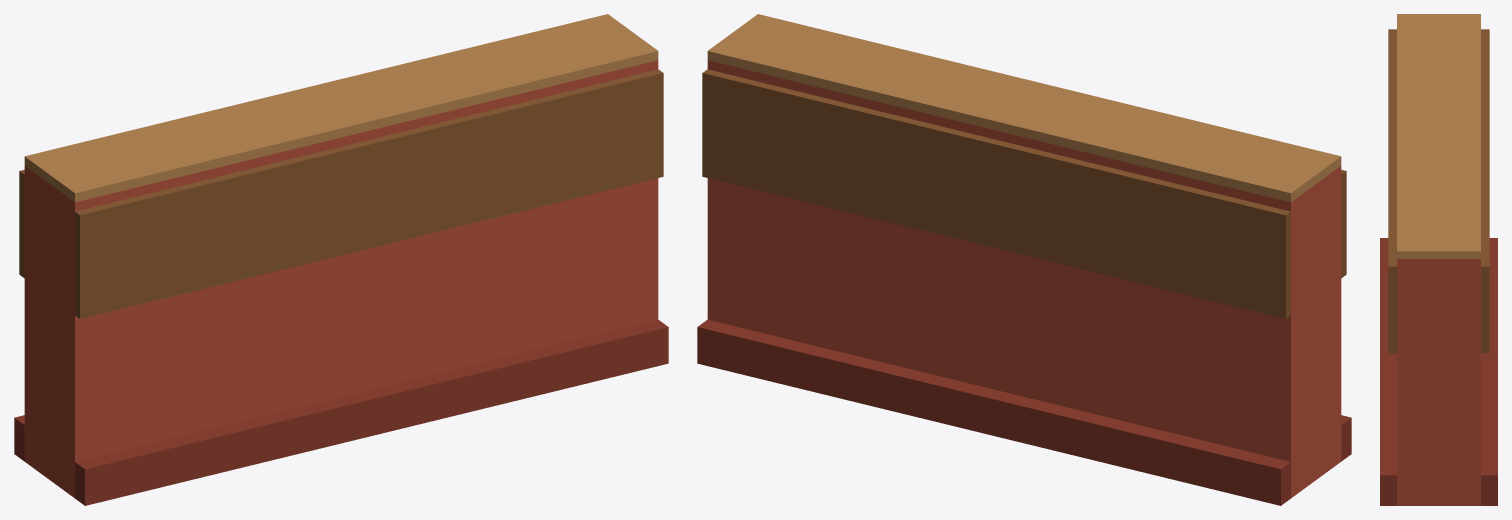
File: partition.glb
3 views of the same model, side by side, from view 1: azimuth 30°, elevation 25°; view 2: azimuth 150°, elevation 25°; view 3: azimuth 270°, elevation 25° (orthographic). The views are drawn at different scales.
Visible parts, largest first — view 1: partition; view 2: partition; view 3: partition.
Part boxes in pixels (box(x1,y1,x2,y2)): partition: box(14, 14, 668, 505); partition: box(697, 14, 1351, 505); partition: box(1380, 14, 1497, 505).
Size of the model in its own units: 1 by 0.5 by 0.21.
Materials: 1 (1 with a texture image).
